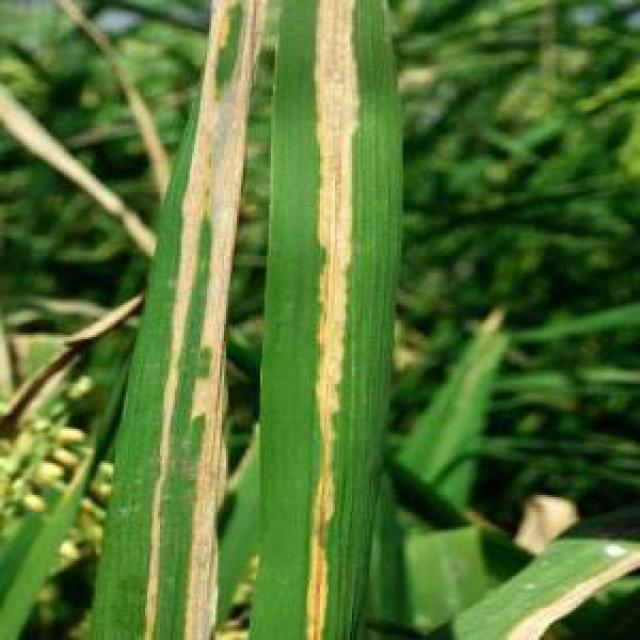Bacterial_Blight: (137, 1, 272, 640), (298, 0, 359, 640), (497, 543, 640, 640)
